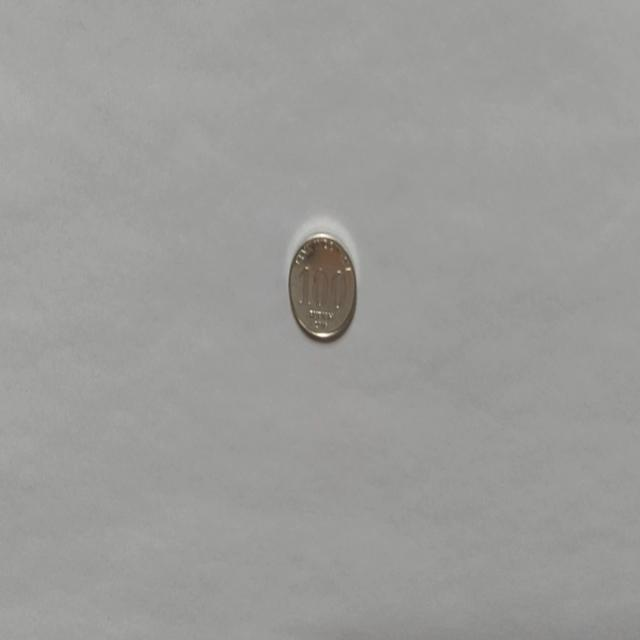seratus rupiah: (288, 230, 357, 342)
